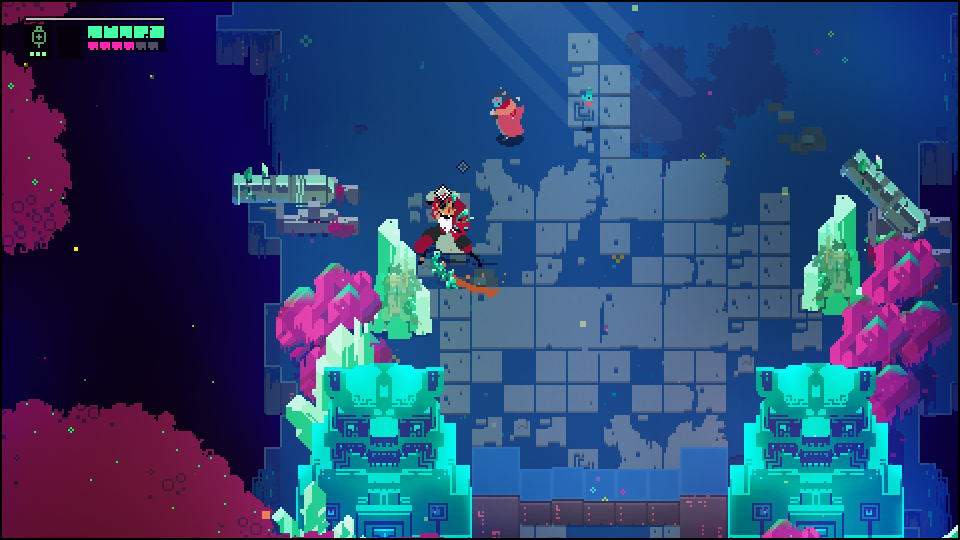hanged_man: (411, 175, 485, 292)
player: (487, 86, 526, 143)
